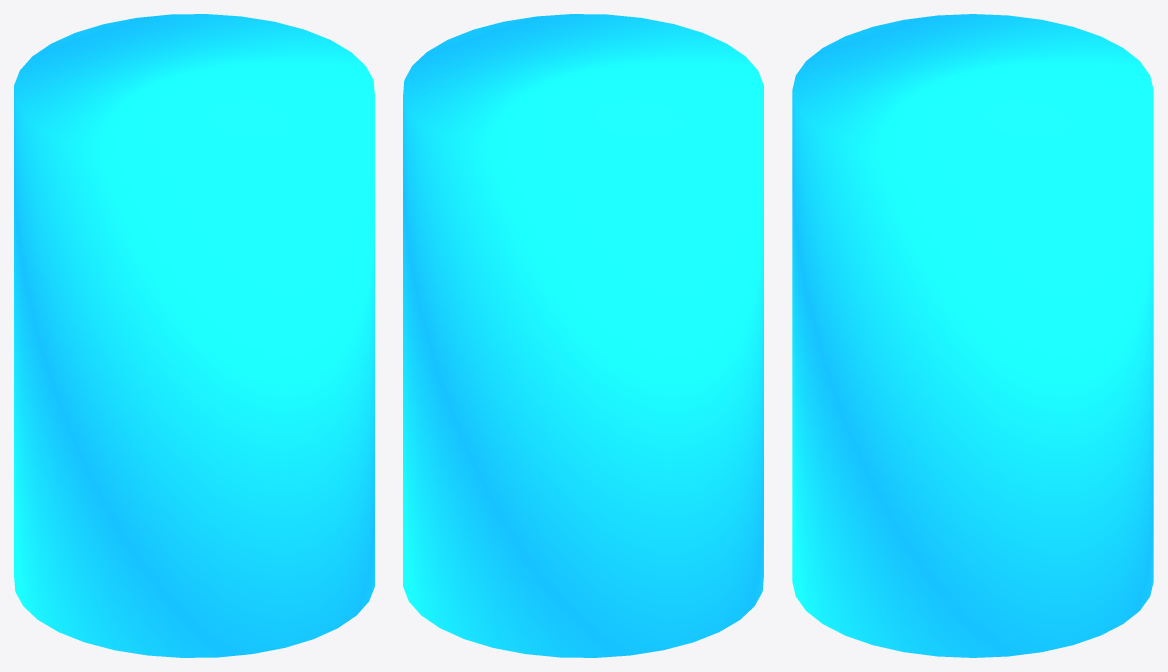
Rendered from teleport.glb.
The picture shows the model from 3 angles, left to right: view 1: azimuth 30°, elevation 25°; view 2: azimuth 150°, elevation 25°; view 3: azimuth 270°, elevation 25°; orthographic projection.
Visible parts, largest first — view 1: Cylinder.001; view 2: Cylinder.001; view 3: Cylinder.001.
Boxes of the visible parts, x1=… form: Cylinder.001: x1=14, y1=14, x2=374, y2=657; Cylinder.001: x1=403, y1=14, x2=763, y2=657; Cylinder.001: x1=792, y1=14, x2=1153, y2=657.
Size of the model in its own units: 1 by 1.5 by 1.
Materials: 2 (1 with a texture image).
